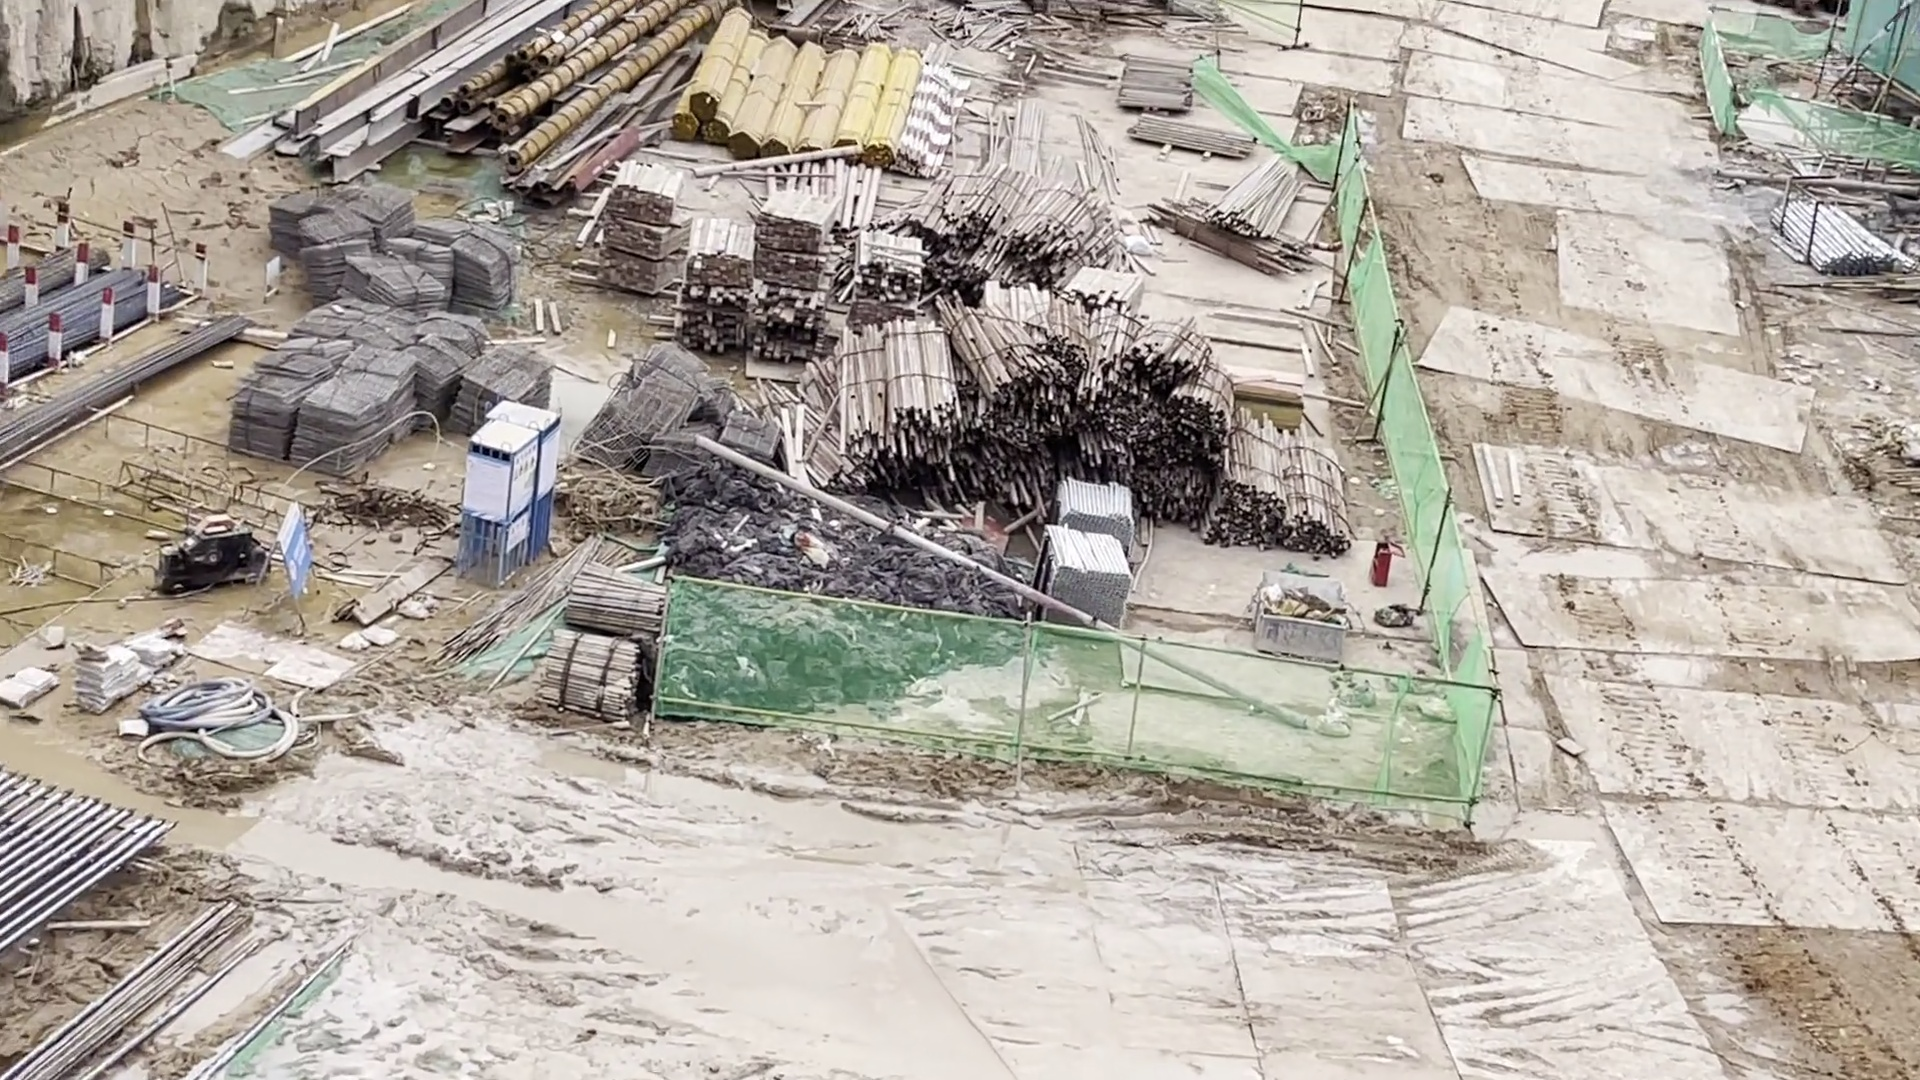hopper: (1259, 568, 1350, 665)
scaffold: (1776, 190, 1913, 284)
wood: (603, 154, 835, 364), (857, 227, 935, 323)
